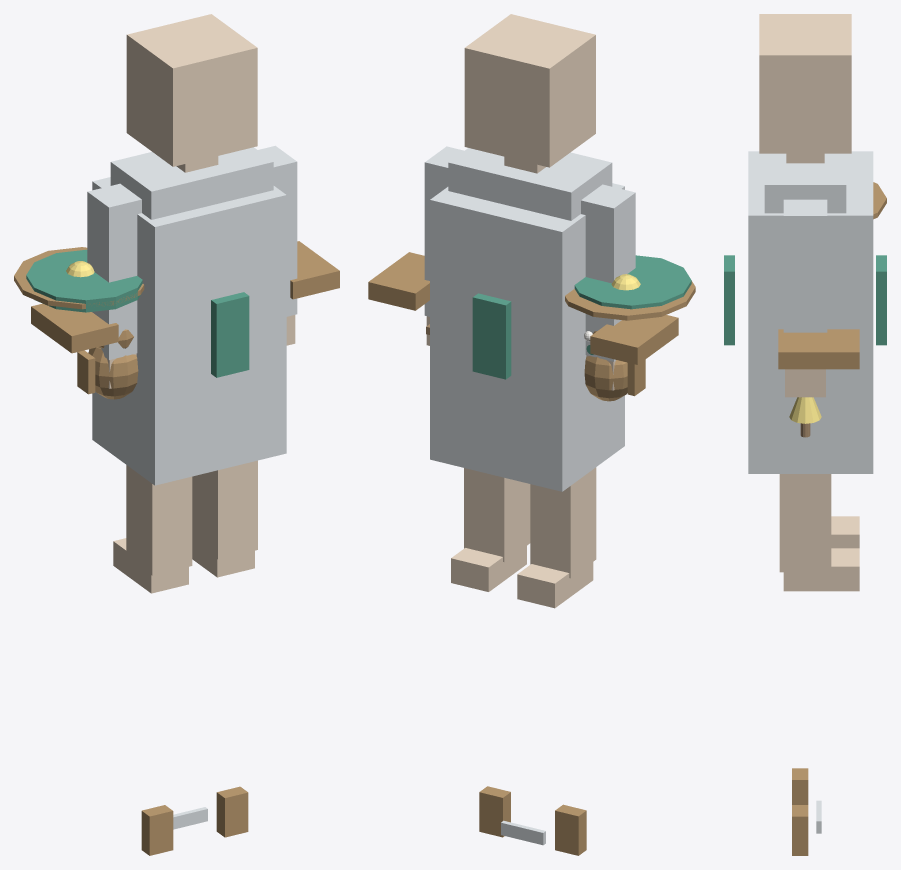
Rendered from athena.glb.
3 renders of one model, left to right at view 1: azimuth 30°, elevation 25°; view 2: azimuth 150°, elevation 25°; view 3: azimuth 270°, elevation 25°, orthographic.
Visible parts, largest first — view 1: outfit_tunic_0, head, torso, leg_L_shin, arm_L_upper, leg_R_shin, outfit_shield_0, outfit_armor_4, outfit_armor_2, prop, arm_R_upper, outfit_armor_1 (+5 smaller); view 2: outfit_tunic_0, head, torso, leg_L_shin, leg_R_shin, arm_L_upper, outfit_shield_0, outfit_armor_3, outfit_armor_2, outfit_armor_1, leg_L_foot, leg_R_foot (+6 smaller); view 3: outfit_tunic_0, head, arm_R_upper, leg_R_shin, torso, outfit_armor_1, leg_R_foot, arm_R_hand, outfit_armor_3, outfit_armor_4, leg_L_foot, outfit_sandals_1 (+4 smaller).
Boxes of the visible parts, <box> form: outfit_tunic_0: <box>92,177,286,485</box>; head: <box>126,14,257,166</box>; torso: <box>110,147,273,219</box>; leg_L_shin: <box>126,465,192,575</box>; arm_L_upper: <box>87,183,141,359</box>; leg_R_shin: <box>192,460,257,559</box>; outfit_shield_0: <box>26,249,142,312</box>; outfit_armor_4: <box>211,292,249,377</box>; outfit_armor_2: <box>31,303,118,353</box>; prop: <box>77,329,138,399</box>; arm_R_upper: <box>258,145,297,316</box>; outfit_armor_1: <box>290,241,339,299</box>; outfit_tunic_0: <box>430,183,624,491</box>; head: <box>464,14,595,167</box>; torso: <box>448,148,612,220</box>; leg_L_shin: <box>530,467,596,578</box>; leg_R_shin: <box>464,468,530,561</box>; arm_L_upper: <box>581,184,635,361</box>; outfit_shield_0: <box>574,255,691,309</box>; outfit_armor_3: <box>472,293,511,379</box>; outfit_armor_2: <box>590,315,678,364</box>; outfit_armor_1: <box>368,252,429,310</box>; leg_L_foot: <box>517,562,593,608</box>; leg_R_foot: <box>451,546,526,591</box>; outfit_tunic_0: <box>748,151,873,473</box>; head: <box>759,14,851,153</box>; arm_R_upper: <box>783,199,827,332</box>; leg_R_shin: <box>779,474,831,572</box>; torso: <box>764,153,846,213</box>; outfit_armor_1: <box>778,329,859,369</box>; leg_R_foot: <box>783,548,859,591</box>; arm_R_hand: <box>785,369,825,397</box>; outfit_armor_3: <box>876,255,886,345</box>; outfit_armor_4: <box>724,255,734,345</box>; leg_L_foot: <box>831,516,859,548</box>; outfit_sandals_1: <box>792,805,808,855</box>.
Bounding box in the file's own units: 1.26 × 3.24 × 0.6.
